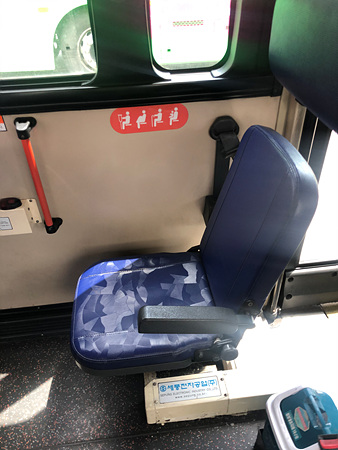seat: (71, 127, 312, 367)
